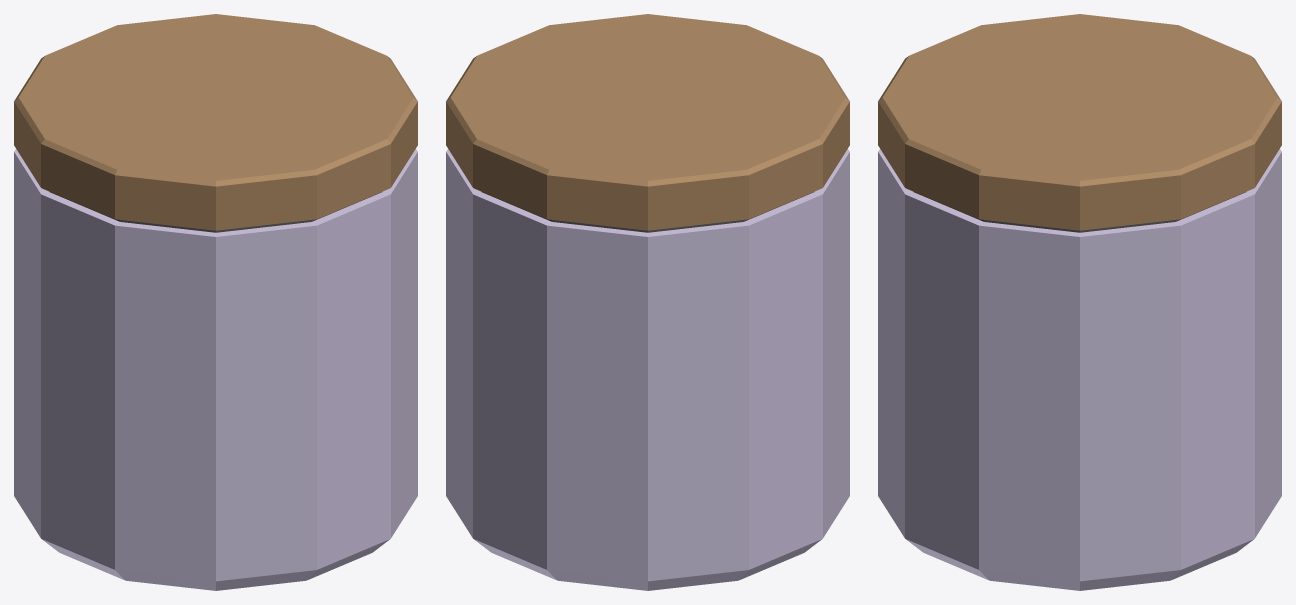
The model's file is KitchenProps_21.fbx.
3 renders of one model, left to right at view 1: azimuth 30°, elevation 25°; view 2: azimuth 150°, elevation 25°; view 3: azimuth 270°, elevation 25°, orthographic.
Visible parts, largest first — view 1: KitchenProps_21; view 2: KitchenProps_21; view 3: KitchenProps_21.
Part boxes in pixels (x1,y1,x2,y2): KitchenProps_21: (14,14,417,590); KitchenProps_21: (446,14,849,590); KitchenProps_21: (878,14,1281,590).
Bounding box in the file's own units: 9.62 × 10.97 × 9.62.
